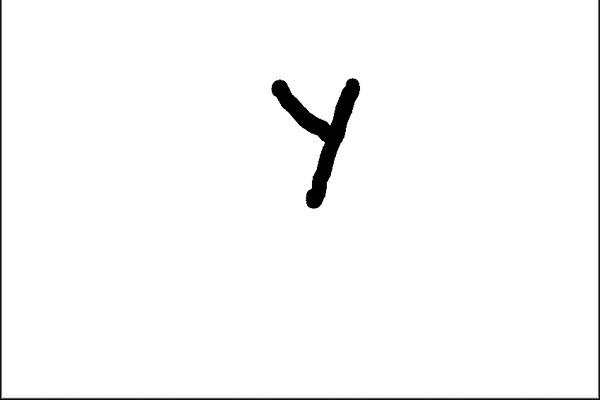Y: (260, 66, 388, 225)
